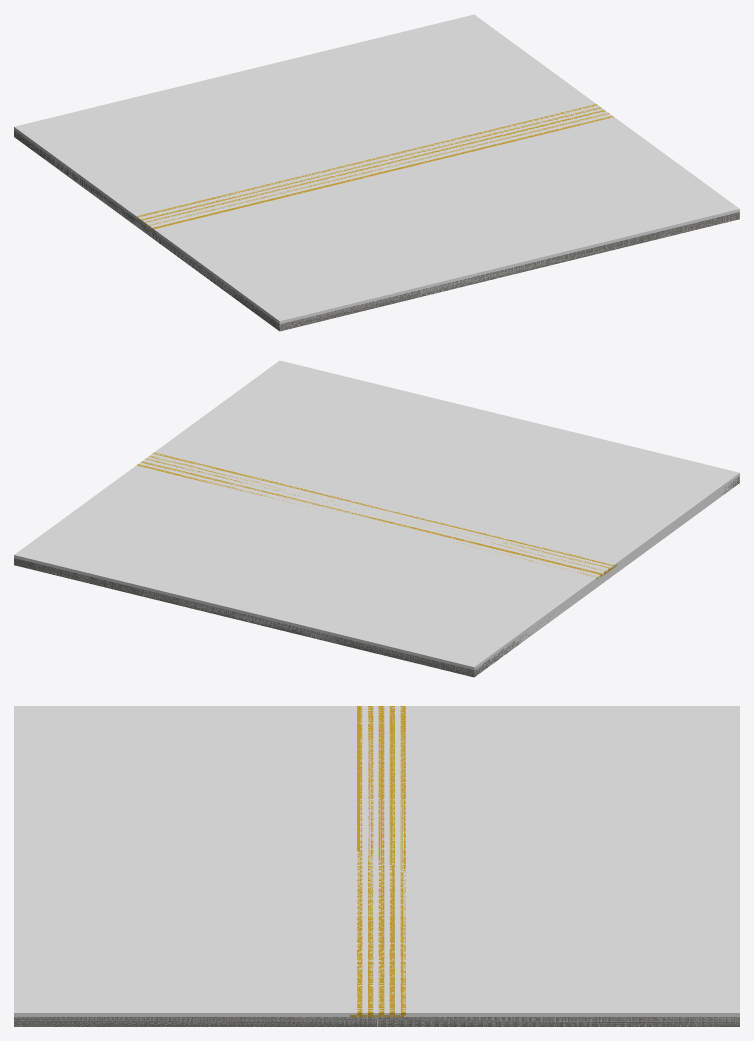
File: KIT_SF_WalkPath_Stone_A.glb
3 renders of one model, top to bottom at view 1: azimuth 30°, elevation 25°; view 2: azimuth 150°, elevation 25°; view 3: azimuth 270°, elevation 25°, orthographic. The views are drawn at different scales.
Parts seen in each view (by area): view 1: KIT_SF_WalkPath_Stone_A_COL, KIT_SF_WalkPath_Stone_A; view 2: KIT_SF_WalkPath_Stone_A_COL, KIT_SF_WalkPath_Stone_A; view 3: KIT_SF_WalkPath_Stone_A_COL, KIT_SF_WalkPath_Stone_A.
Boxes of the visible parts, box(x1,y1,x2,y2) form: KIT_SF_WalkPath_Stone_A_COL: box(14, 14, 739, 330); KIT_SF_WalkPath_Stone_A: box(14, 104, 739, 331); KIT_SF_WalkPath_Stone_A_COL: box(14, 360, 739, 676); KIT_SF_WalkPath_Stone_A: box(14, 452, 739, 677); KIT_SF_WalkPath_Stone_A_COL: box(14, 706, 739, 1026); KIT_SF_WalkPath_Stone_A: box(14, 706, 739, 1026).
Size of what is drawn, in the model's own units: 4 by 0.085 by 4.
